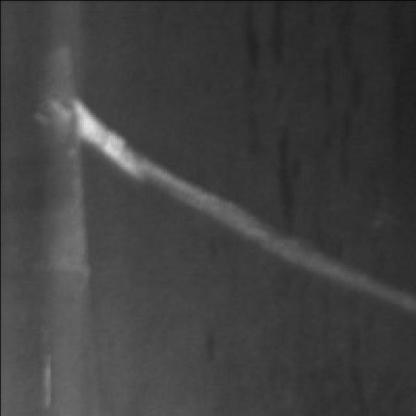scratches: (40, 94, 406, 310)
